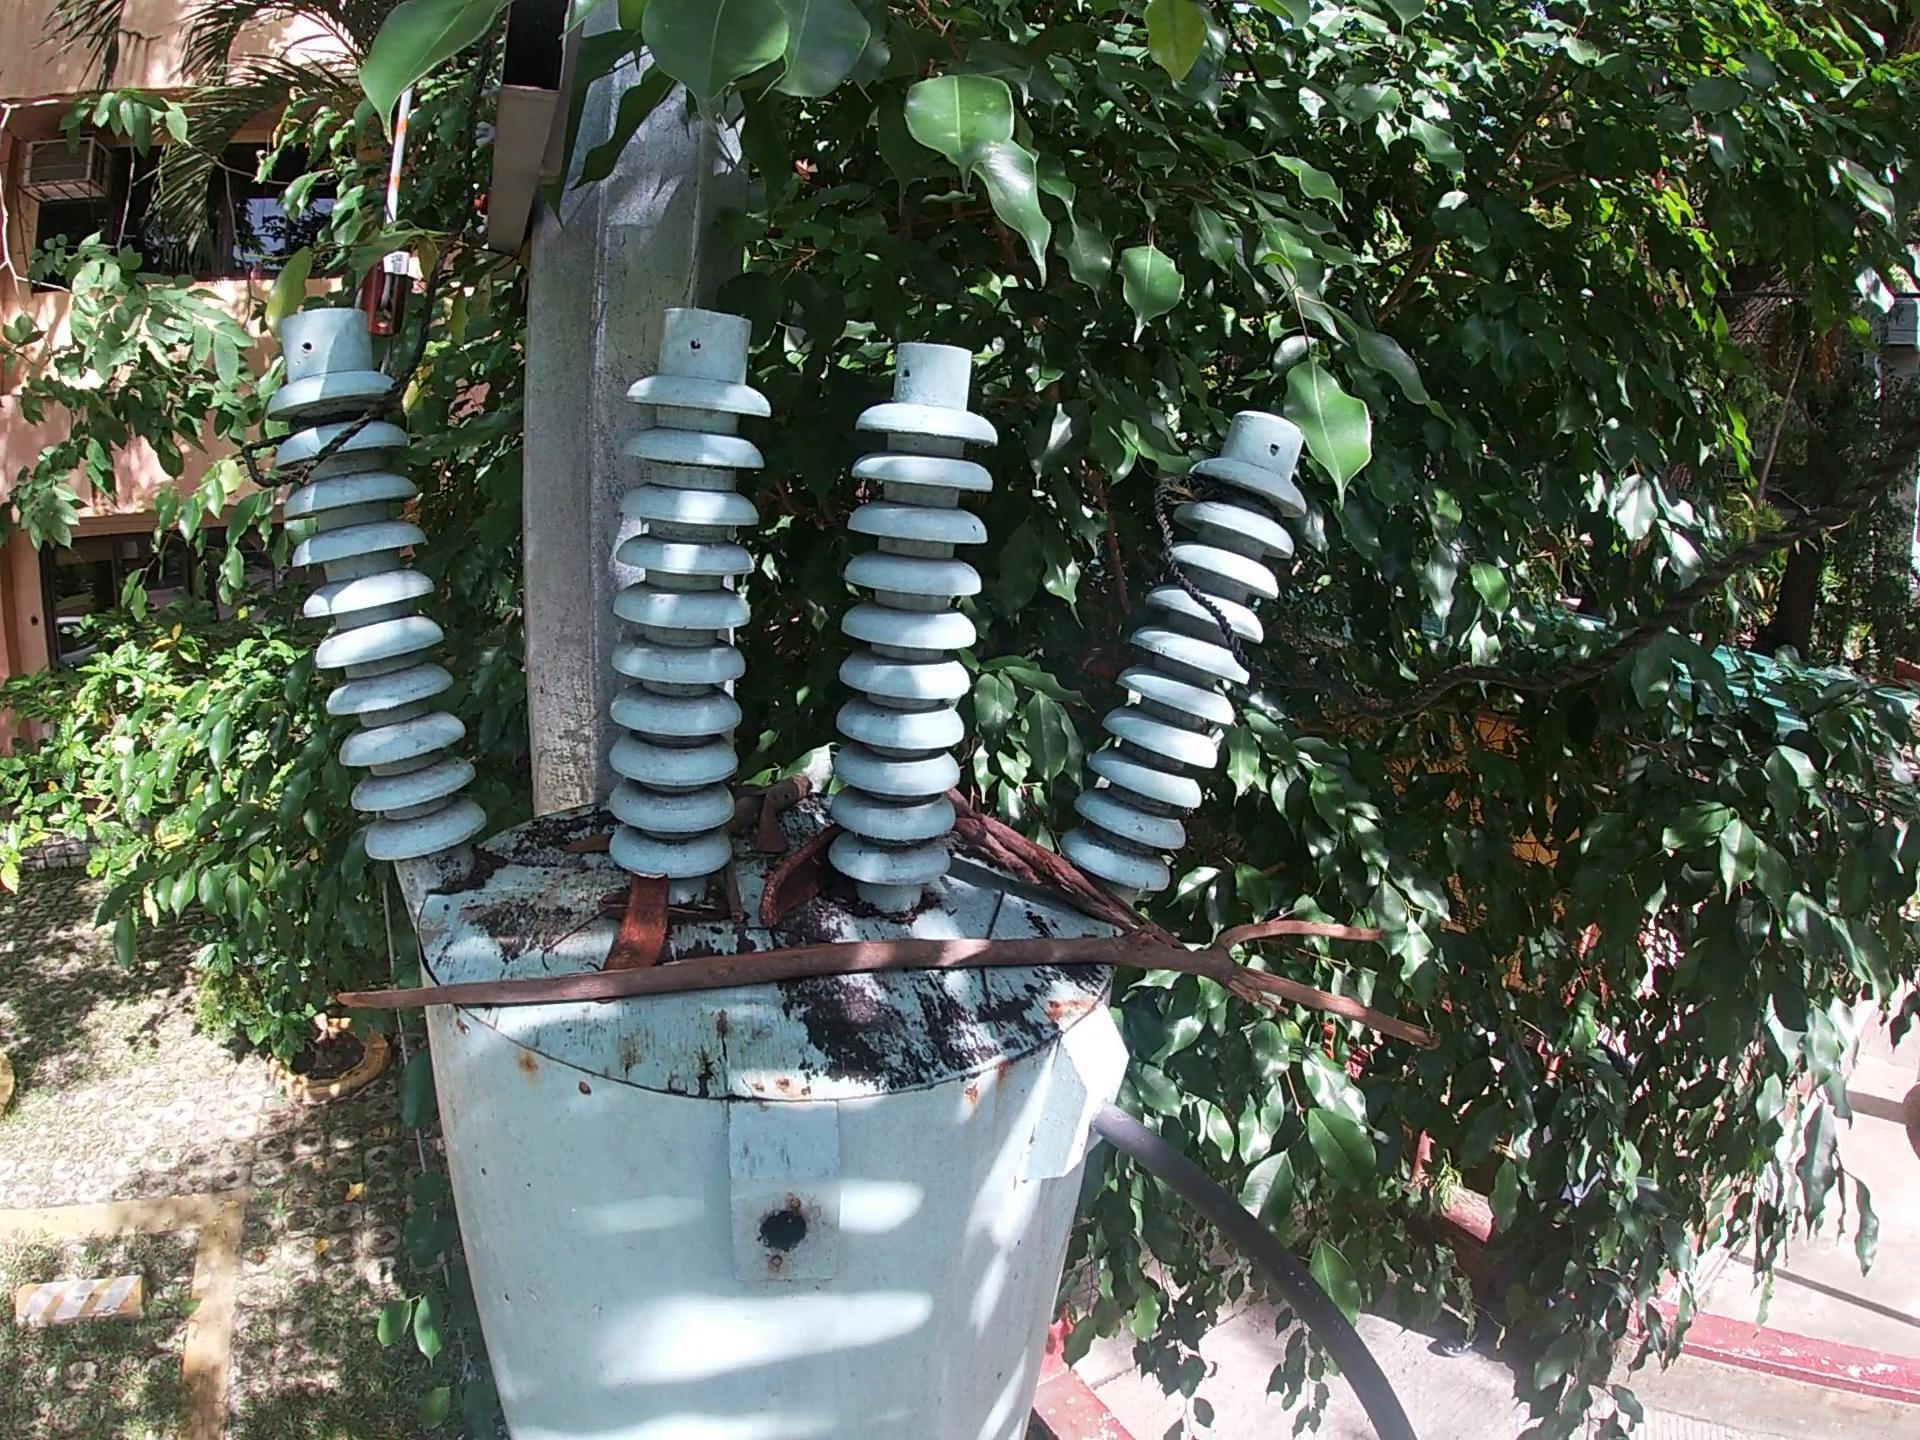leaf: (759, 805, 791, 868), (565, 826, 605, 859)
mahogany fruit: (594, 862, 694, 968), (757, 850, 835, 936)
tree branch: (321, 920, 1504, 1082), (962, 796, 1150, 953), (963, 877, 1030, 933), (537, 909, 593, 967), (730, 781, 804, 823), (977, 973, 1013, 1039), (671, 902, 745, 933), (723, 859, 745, 930), (594, 892, 623, 926)
